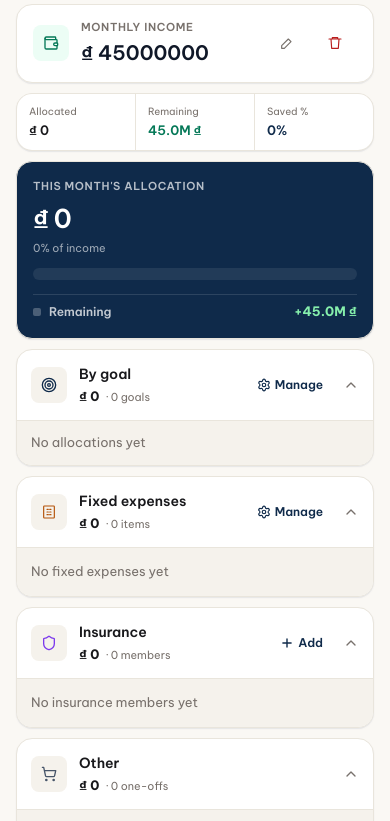
Test: MobilePlanningView — with plan › opens salary edit sheet when edit button is clicked
Click the button named "edit" at (287, 43), box [265,21,309,65]
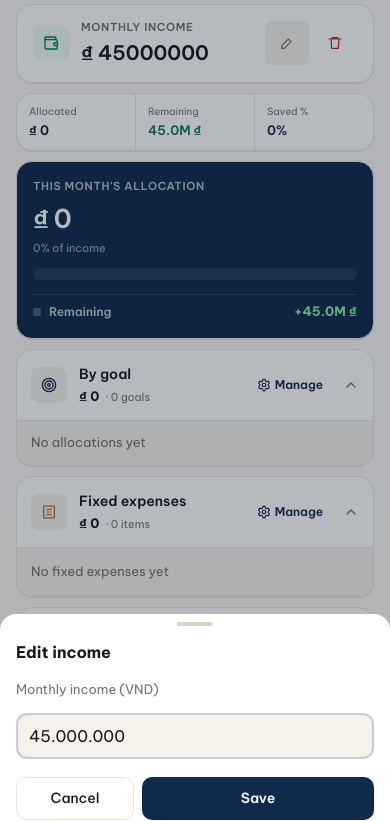
Expected: the field is shown, [16,713,374,759]
